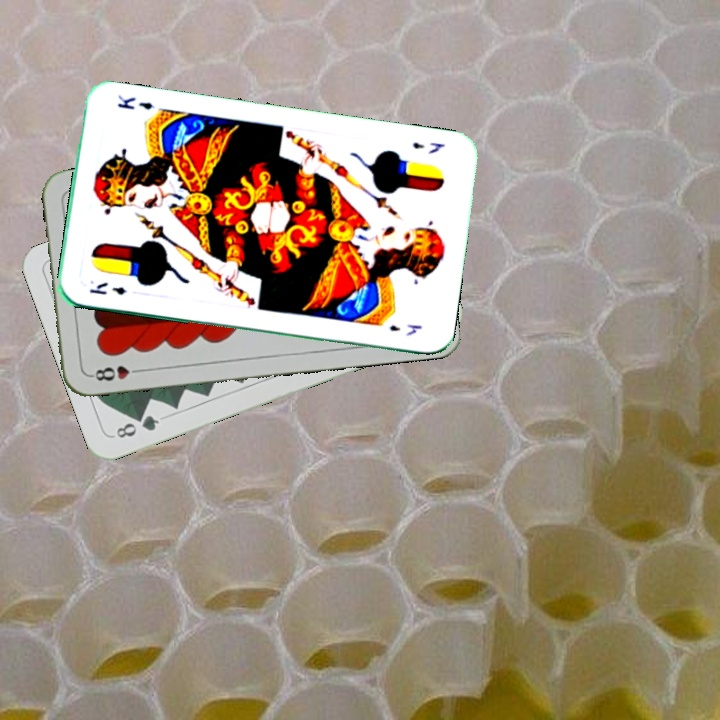EK: (85, 278, 129, 298), (408, 138, 448, 157)
G8: (112, 411, 162, 441)
H8: (87, 361, 146, 384)
